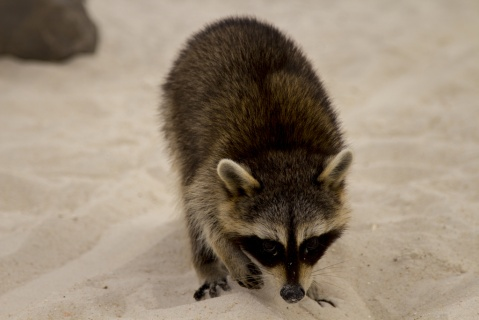Raccoon: (148, 9, 364, 306)
